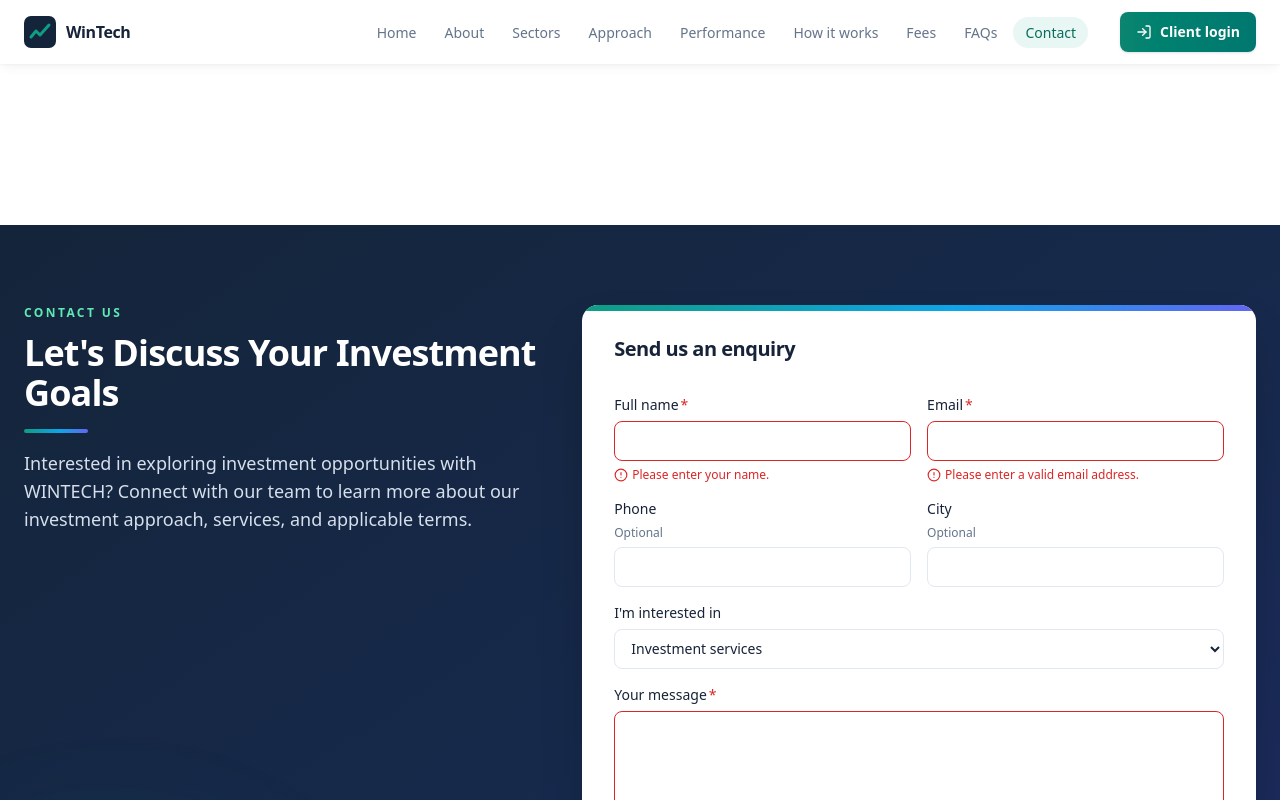
Scenario: public website › validates and sends an enquiry (honeypot empty, consent required)
This screenshot has width=1280, height=800.
Earlier steps of the test are not shown.
(page scrolled)
Check: the text "Please enter your name." is shown, box [614,466,769,482]
Step 1. Type "Priya (fictional)" into the field labelled "Full name*" → {"x": 763, "y": 440}, box [614,420,911,460]
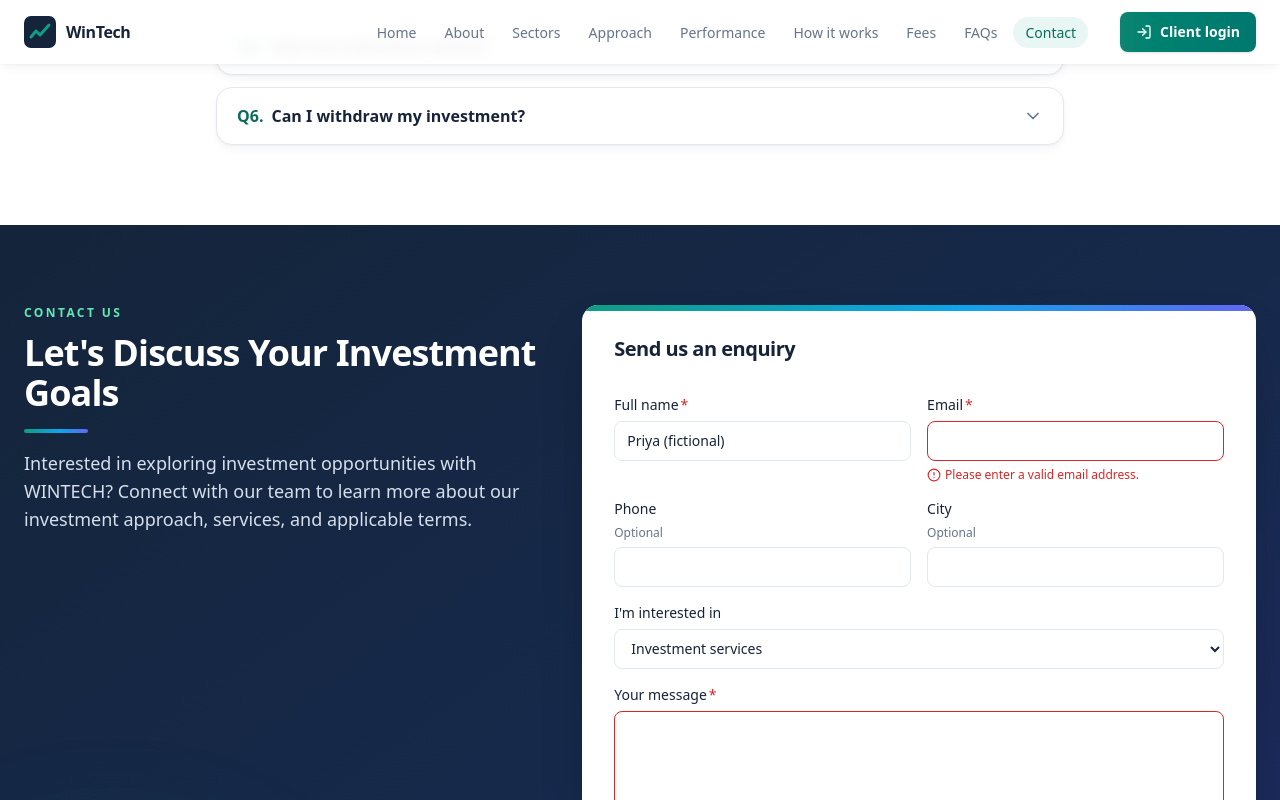
Step 2. Type "priya@example.test" into the field labelled "Email*" → {"x": 1076, "y": 440}, box [927,420,1224,460]
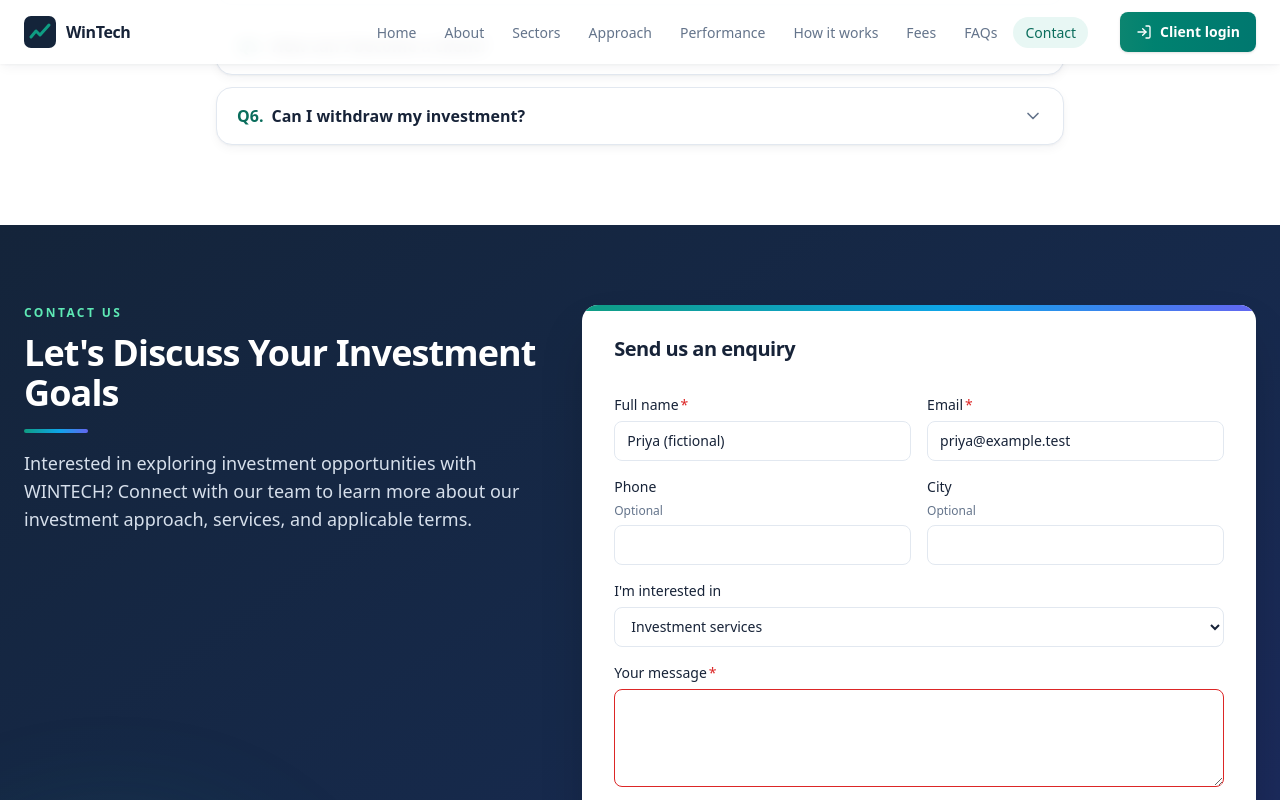
Step 3. Type "+91 98765 43210" into the field labelled "Phone" → {"x": 763, "y": 544}, box [614,524,911,564]
Step 4. Select "Fees and terms" in the dropdown labelled "I'm interested in" → {"x": 919, "y": 626}, box [614,606,1224,646]
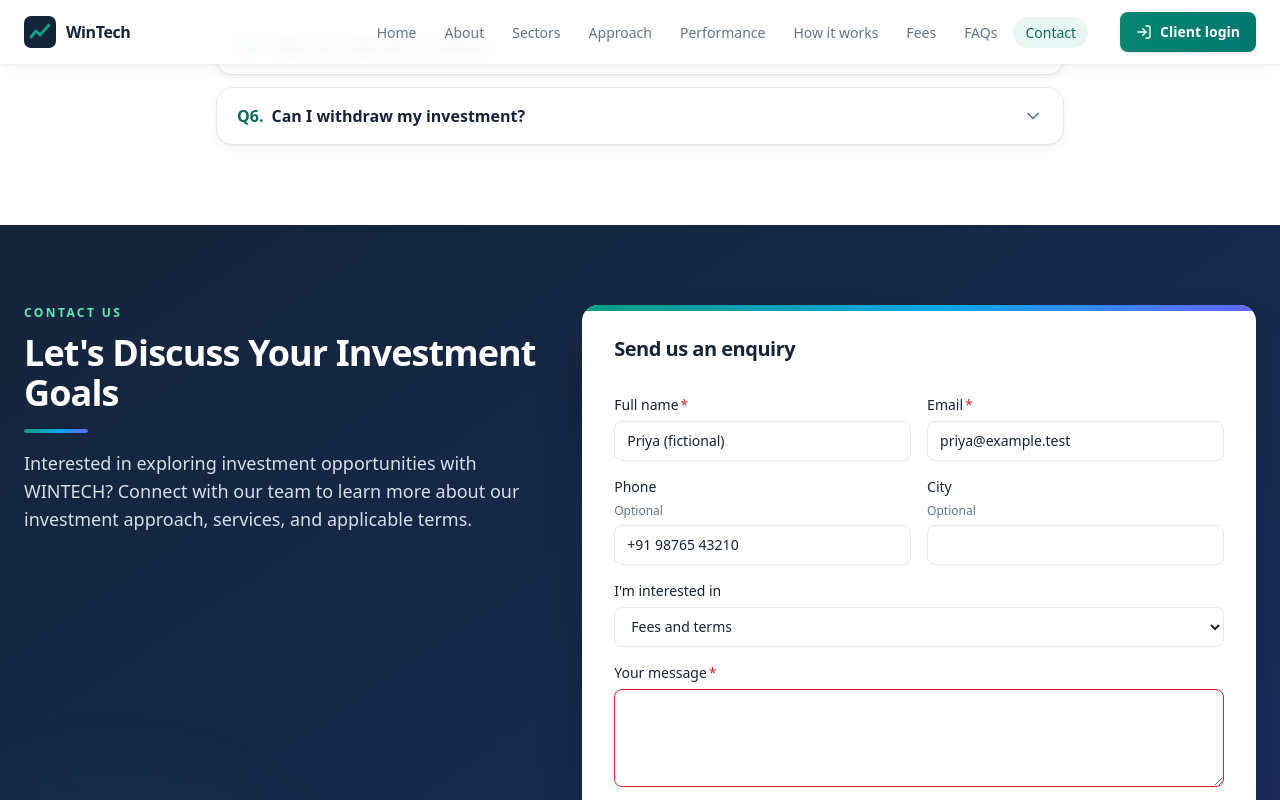
Step 5. Type "Please explain the fee structure." into the text box labelled "Your message*" → {"x": 919, "y": 738}, box [614,688,1224,786]
(page scrolled)
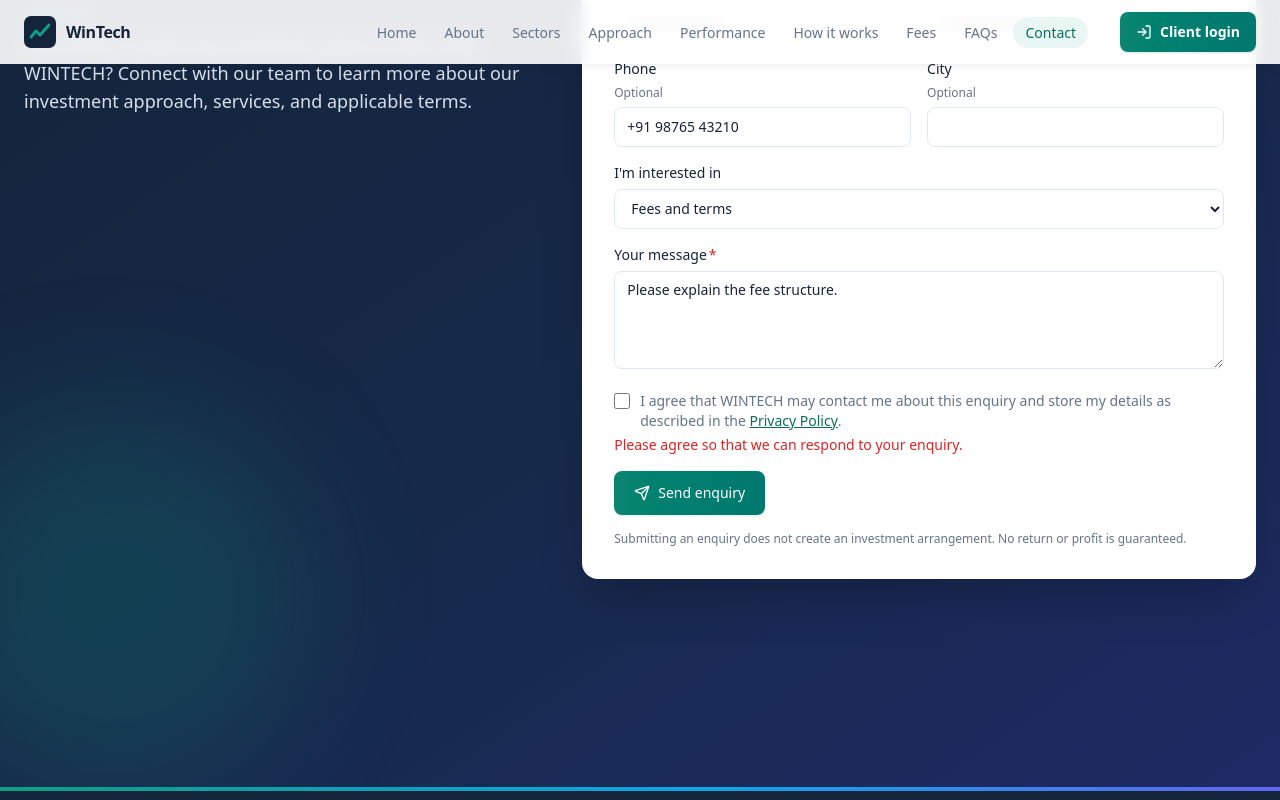
Step 6. Click the checkbox → {"x": 622, "y": 400}, box [614,392,630,408]
(page scrolled)
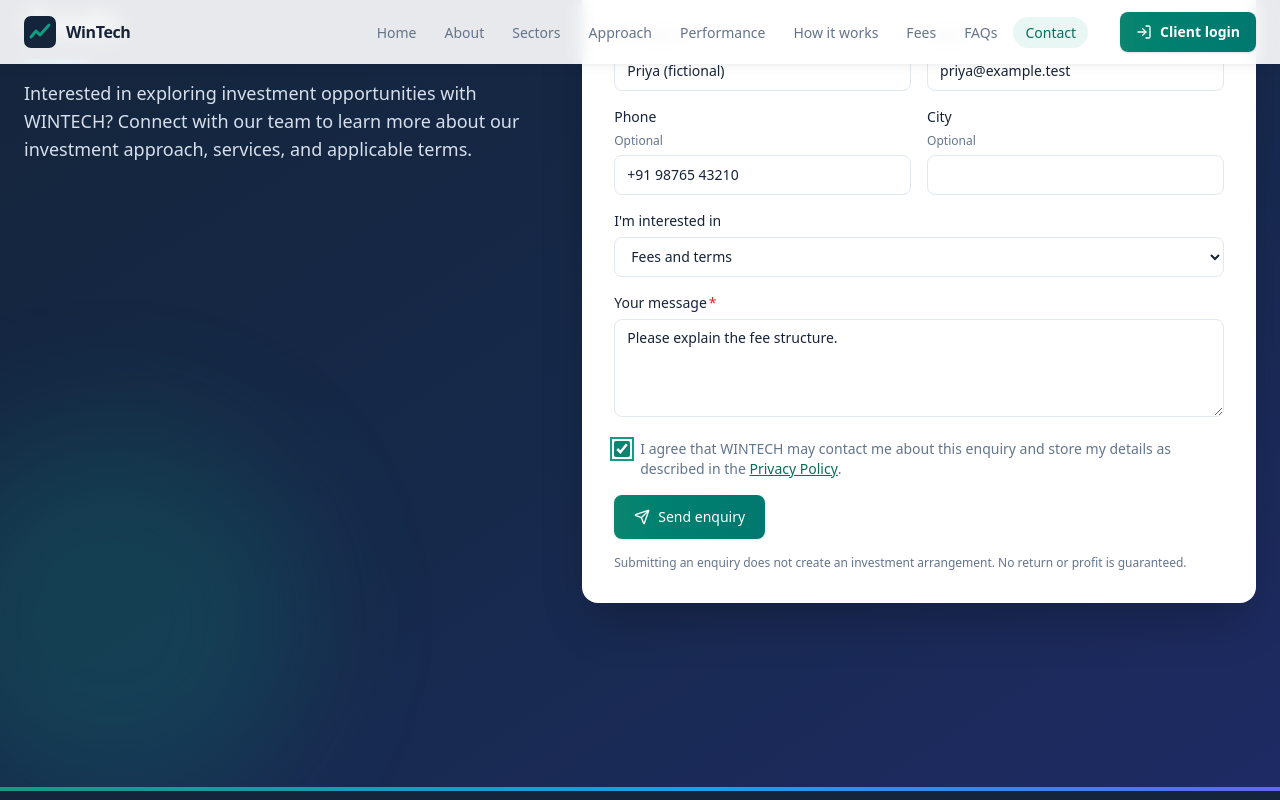
Step 7. Click the button "Send enquiry" → {"x": 690, "y": 516}, box [614,494,765,538]
(page scrolled)
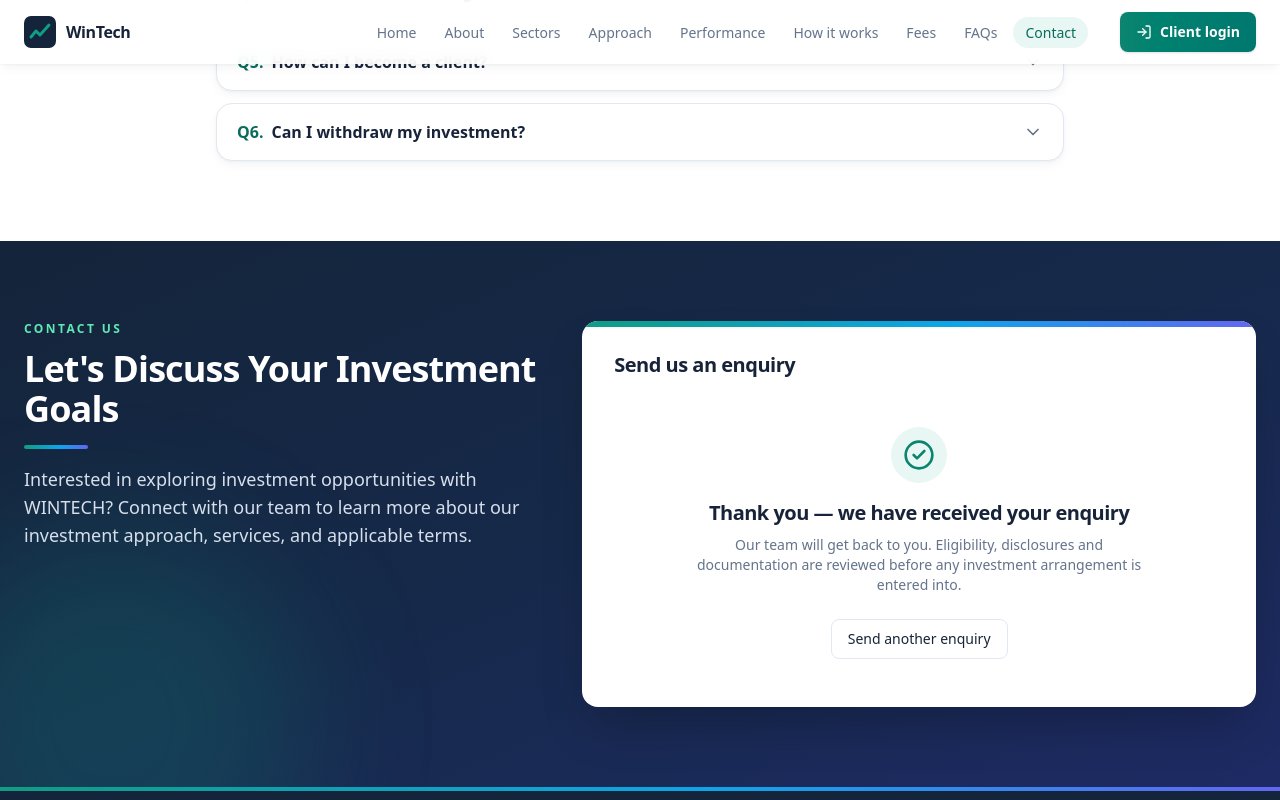
Check: the heading "Thank you — we have received your enquiry" is shown, box [709,498,1129,526]
